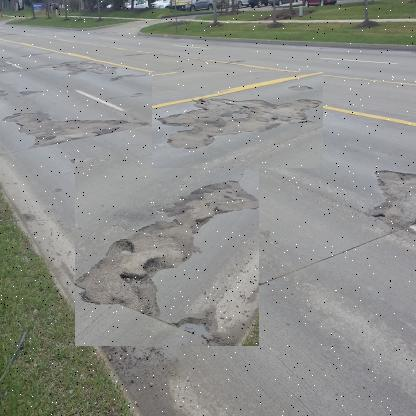damage: (75, 158, 260, 347), (152, 72, 324, 169)
